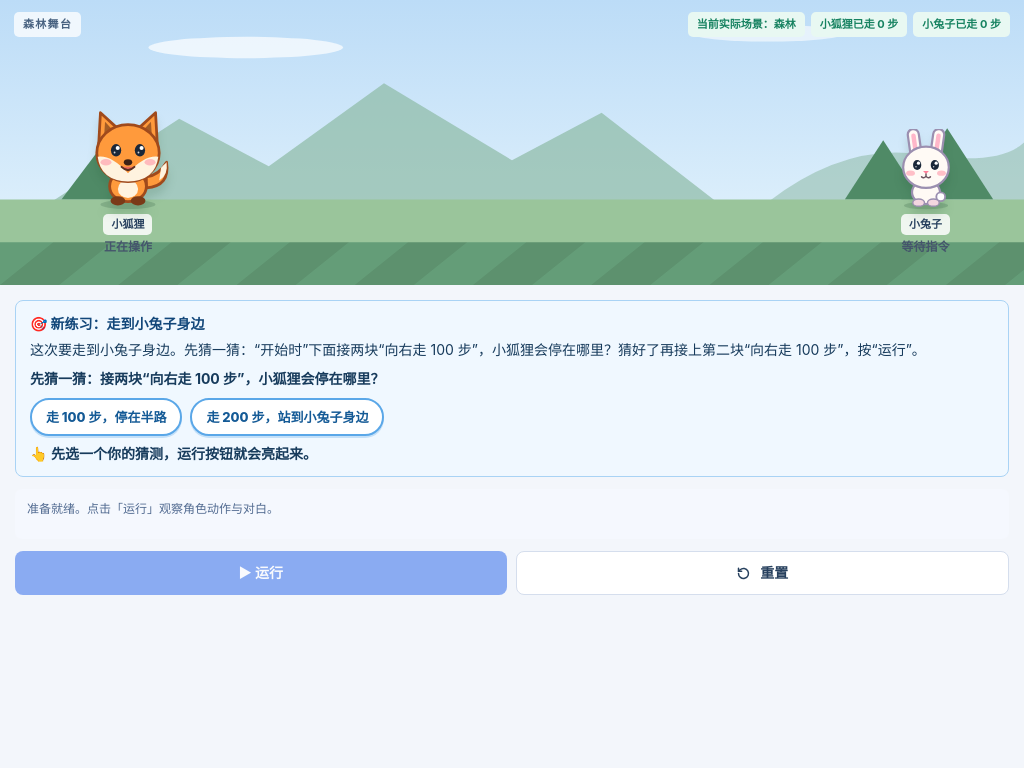
PlayableStage second practice (TQ-011) › predict (L01): the guess comes first, then the run shows the real stop at 200 steps beside the rabbit
The image size is (1024, 768).
Check: the element with test id "practice-task" shows "新练习：走到小兔子身边", box 50,315 -> 204,332
Check: the text with test id "practice-question" reads "先猜一猜：接两块“向右走 100 步”，小狐狸会停在哪里？", box 30,370 -> 385,387
Click the button with test id "practice-answer-half-way".
click(106, 417)  # box 30,398 -> 182,436
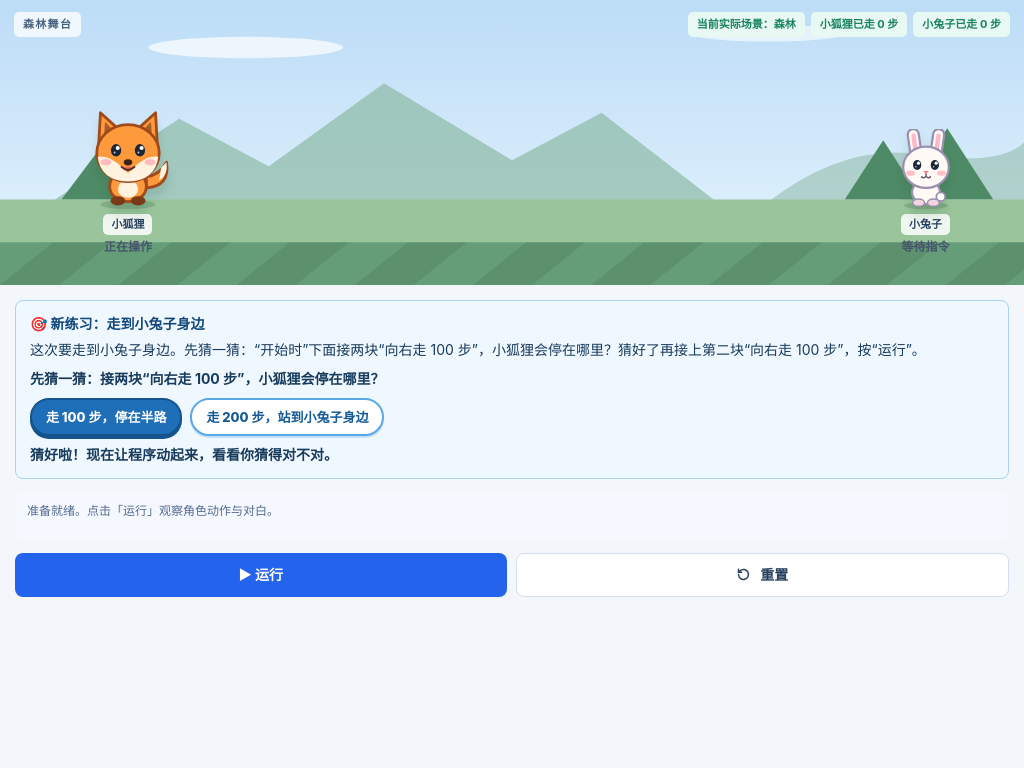
Check: the text with test id "practice-answer-reply" shows "猜好啦", box 30,446 -> 338,463
Check: the text with test id "practice-need-guess" is gone
Click the button with test id "run-code-button".
click(261, 575)  # box 15,553 -> 506,597
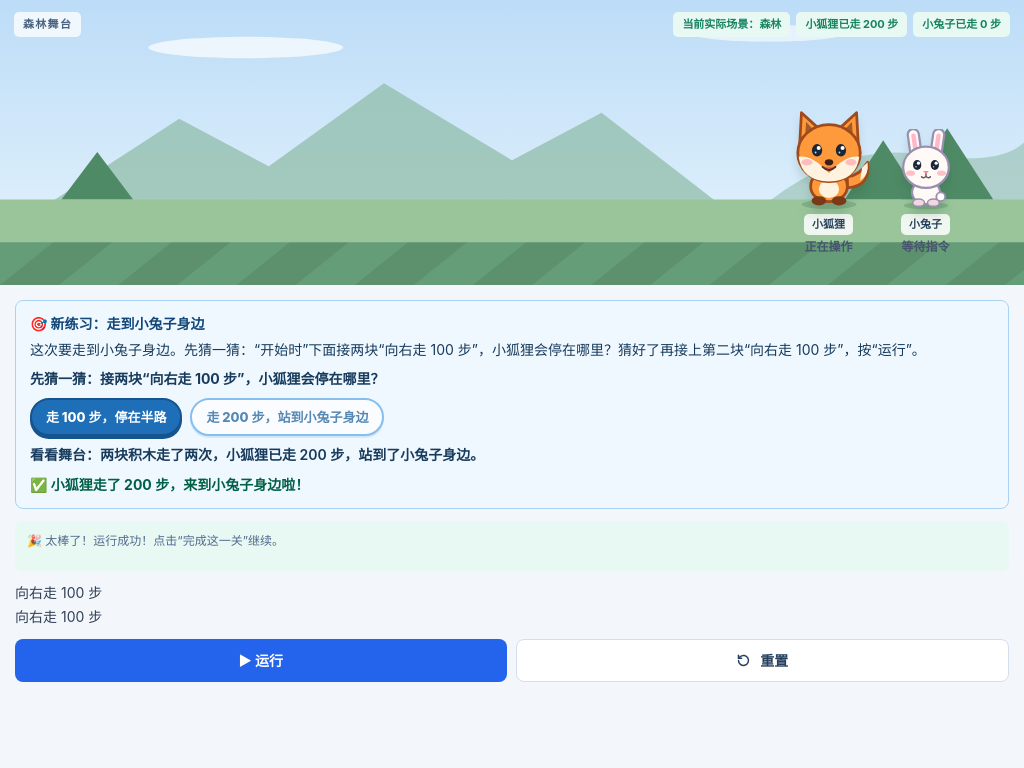
Check: the text with test id "practice-done" shows "小狐狸走了 200 步", box 51,476 -> 309,493
Check: the text with test id "practice-answer-reply" shows "小狐狸已走 200 步", box 30,446 -> 484,463
Check: the text with test id "stage-walked-distance" reads "小狐狸已走 200 步", box 796,12 -> 907,37
